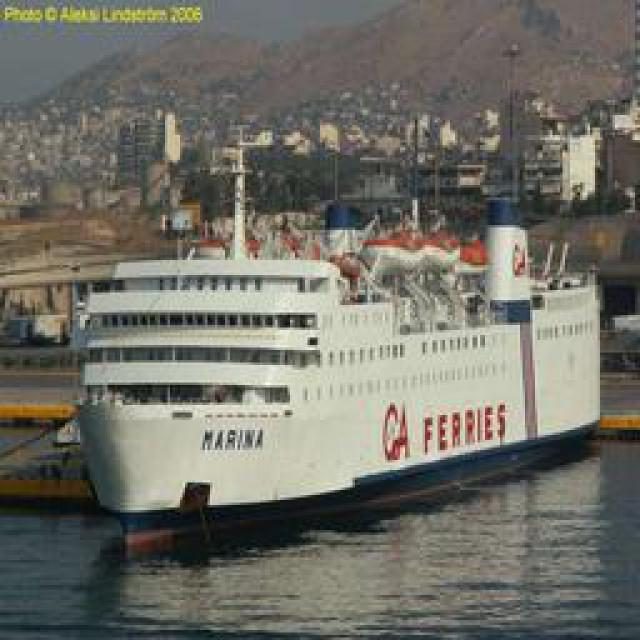Ship: (68, 206, 603, 556)
